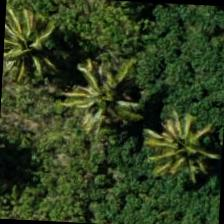Kelapa_Sawit: (52, 41, 146, 136), (148, 93, 223, 188), (1, 0, 81, 87)
